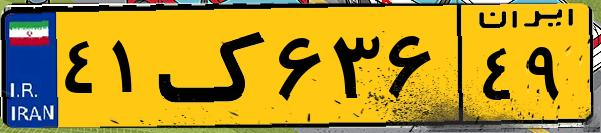1: (110, 28, 158, 98)
3: (330, 28, 385, 110)
4: (57, 26, 110, 100), (475, 38, 525, 113)
6: (270, 28, 330, 110), (385, 28, 445, 110)
9: (525, 38, 570, 115)
ک: (158, 12, 270, 120)
